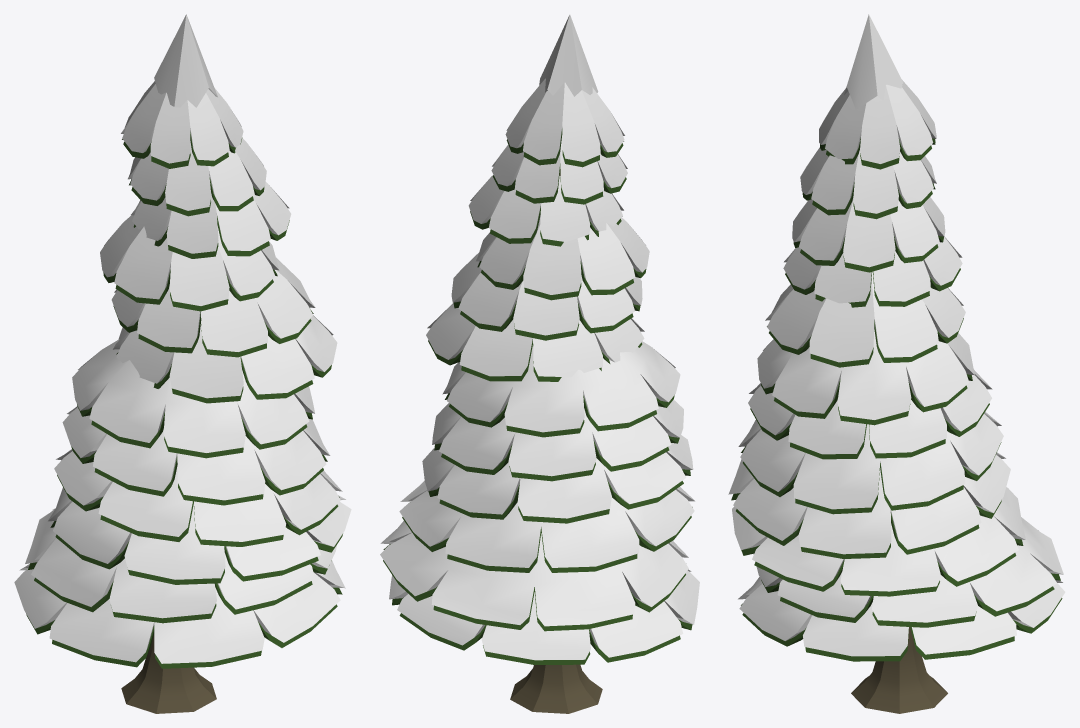
Rendered from blender env assets tree 8.fbx.
3 renders of one model, left to right at view 1: azimuth 30°, elevation 25°; view 2: azimuth 150°, elevation 25°; view 3: azimuth 270°, elevation 25°, orthographic. The views are drawn at different scales.
Visible parts, largest first — view 1: Cylinder.047; view 2: Cylinder.047; view 3: Cylinder.047.
Boxes of the visible parts, box(x1,y1,x2,y2) form: Cylinder.047: box(14, 14, 351, 713); Cylinder.047: box(380, 14, 699, 713); Cylinder.047: box(728, 14, 1065, 713).
Bounding box in the file's own units: 116 × 265 × 119.
